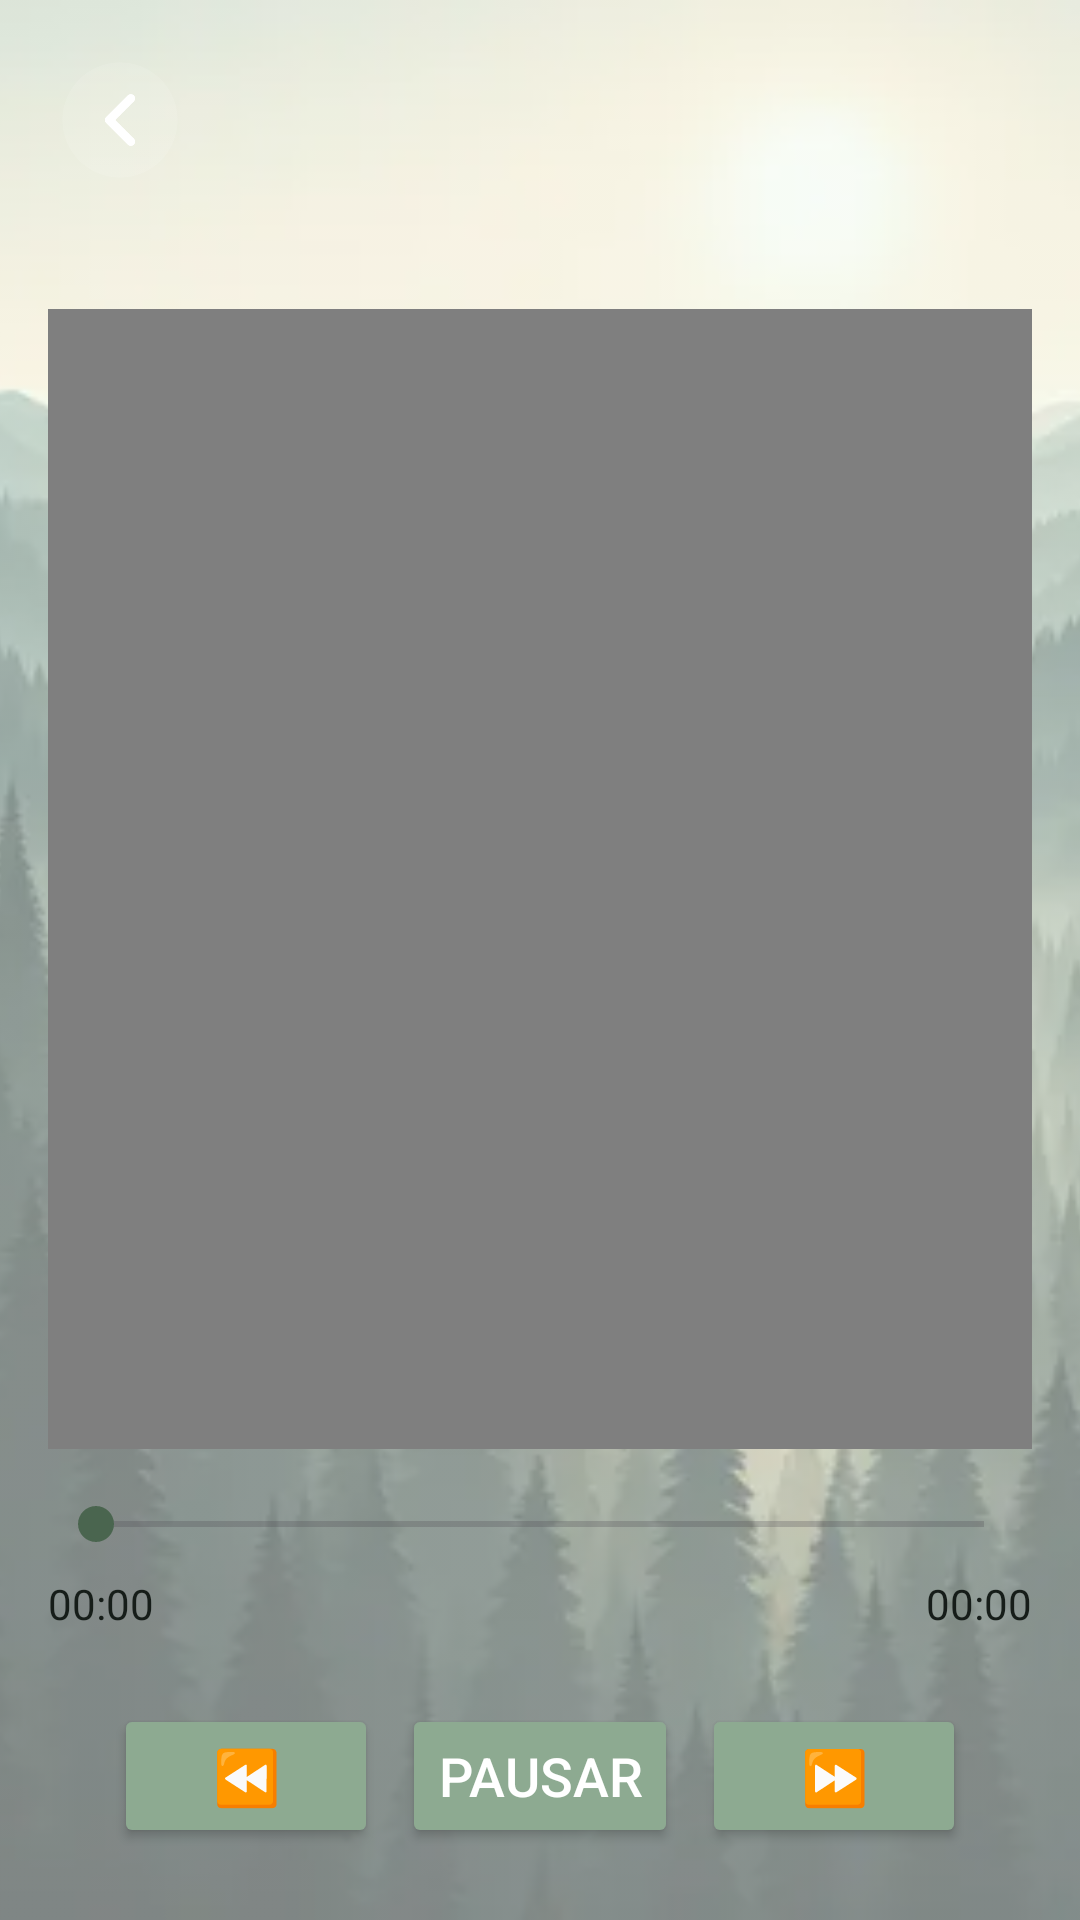

Locate icon controls on the screen. Image size 1080×1920, boxes as bbox=[x1, y1, x2, y2].
Volver: bbox=[48, 90, 192, 192]
